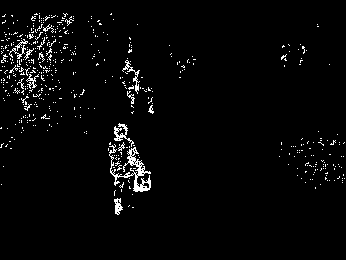person: (108, 122, 150, 218), (120, 57, 139, 116)
